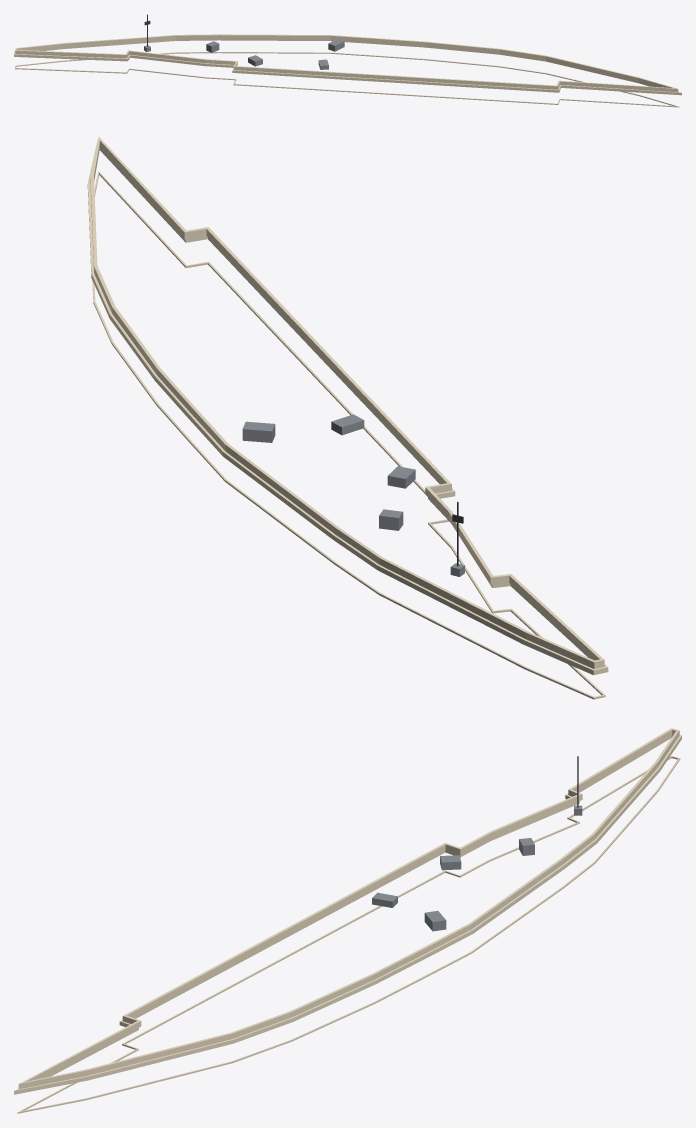
Rendered from eef.glb.
3 renders of one model, top to bottom at view 1: azimuth 30°, elevation 25°; view 2: azimuth 150°, elevation 25°; view 3: azimuth 270°, elevation 25°, orthographic. The views are drawn at different scales.
Parts seen in each view (by area): view 1: eef; view 2: eef; view 3: eef.
Boxes of the visible parts, box(x1,y1,x2,y2) form: eef: box(14, 14, 681, 107); eef: box(87, 136, 608, 699); eef: box(14, 728, 681, 1113).
Size of the model in its own units: 121 by 12.72 by 95.19.
